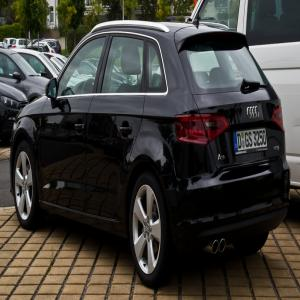Vehicle-registration-plate: (234, 128, 268, 158)
